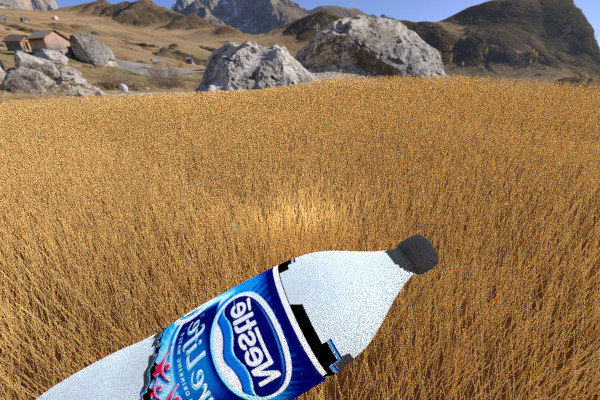Plastic Bottle: (0, 234, 438, 400), (24, 155, 126, 205)
